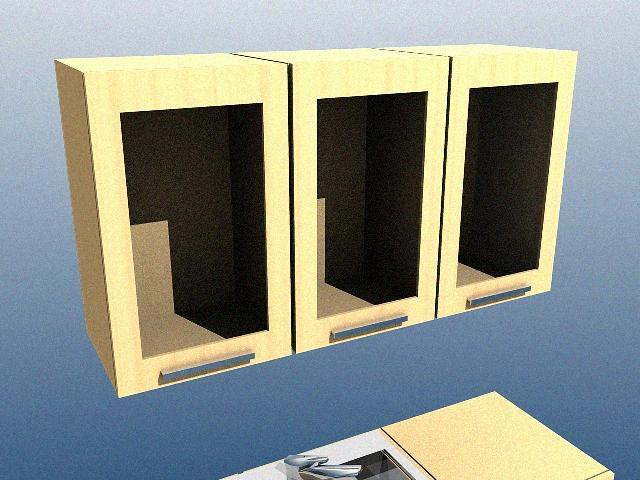cabinet_door: (102, 70, 290, 376), (294, 62, 442, 336), (445, 55, 564, 305)
handle: (158, 349, 257, 384), (329, 313, 409, 344), (466, 281, 531, 310)
